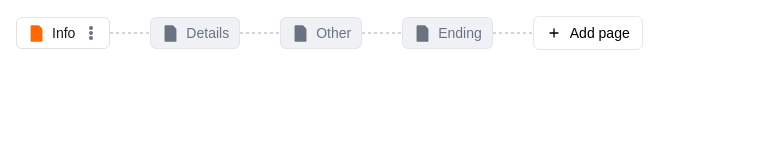
Test: PageNavigationContainer › Hover Add Button Integration › should add new page when clicking hover add button
The image size is (781, 160).
Check: the text "Info" is shown, box [52, 23, 75, 43]
Check: the text "Details" is shown, box [186, 23, 229, 43]
Hover over the 5th element with class "items-center": (130, 33) [110, 32, 150, 34]
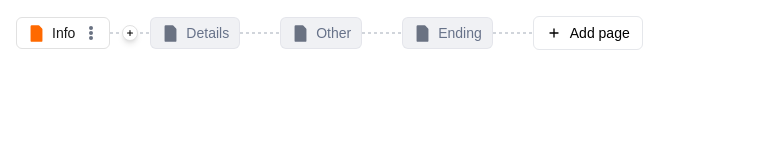
Click the button named "Add page after position 0": (130, 33) [122, 25, 138, 41]
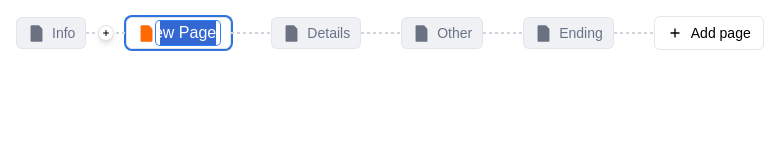
Check: the field showing "New Page" is shown, box [156, 21, 220, 45]
